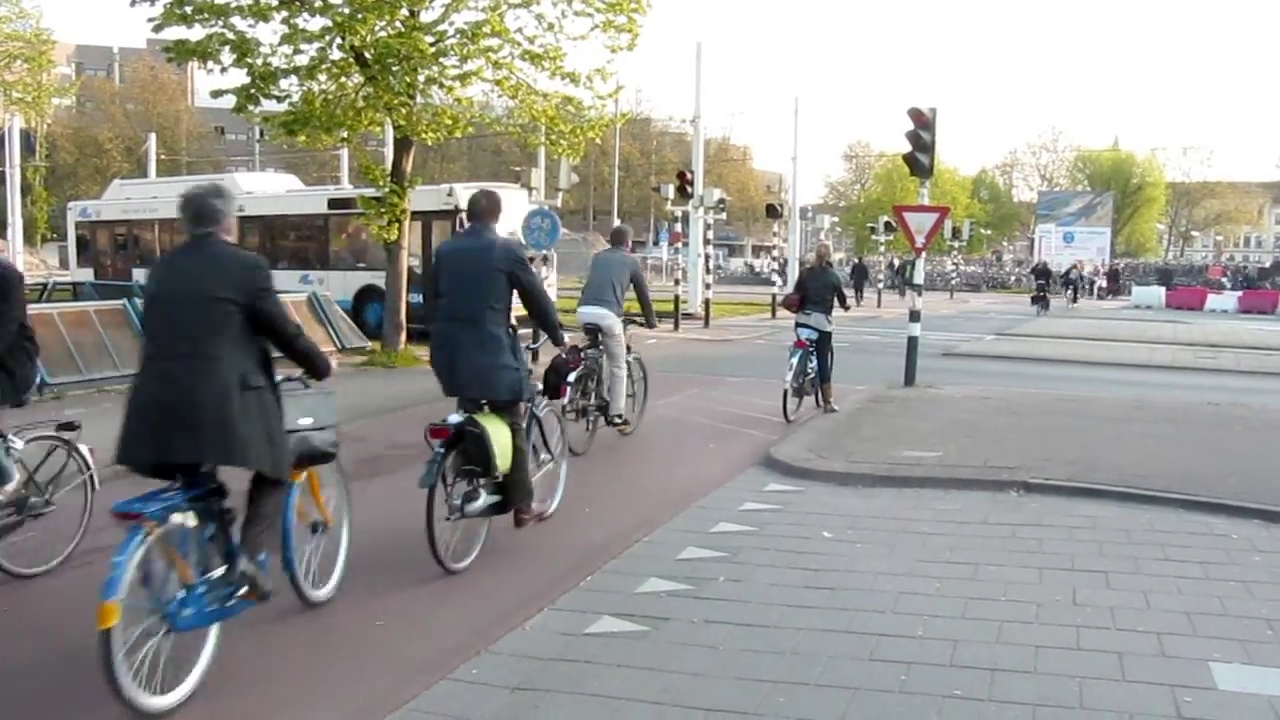cyclist_back: (100, 181, 361, 710), (419, 182, 573, 575), (559, 227, 655, 457), (784, 240, 849, 437), (1031, 258, 1053, 318), (1062, 263, 1078, 309)
